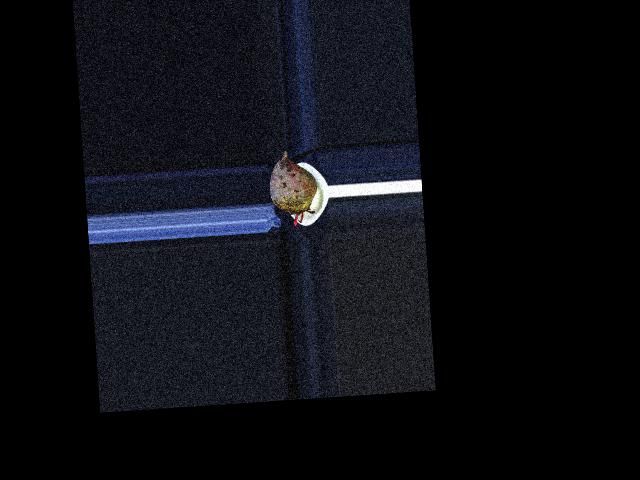beet: (268, 149, 319, 227)
